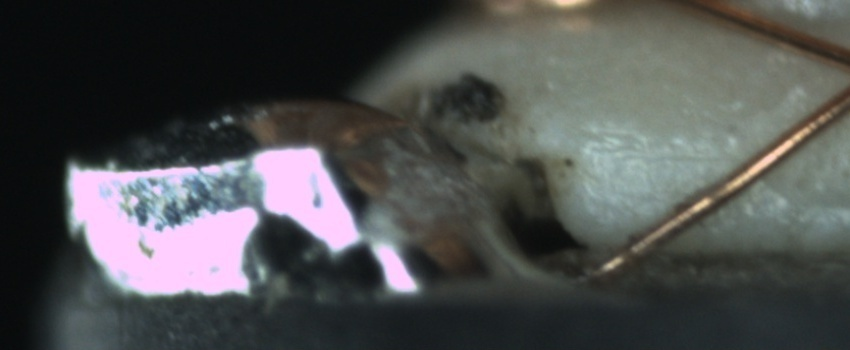DL: (596, 120, 744, 187)
